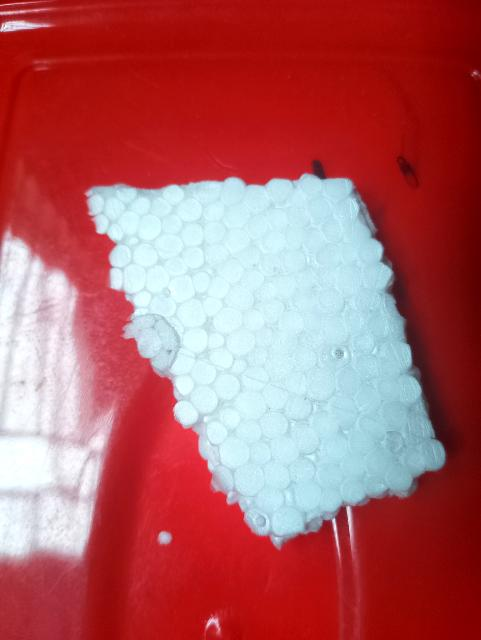cocksheet: (101, 174, 443, 503)
